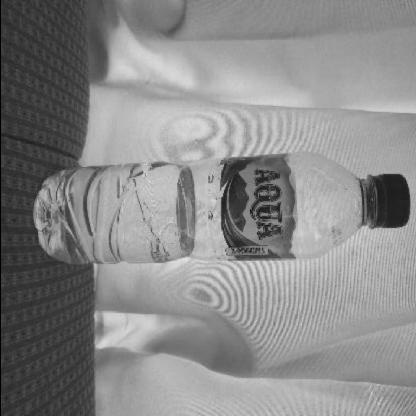plastic_bottles: (28, 154, 410, 268)
